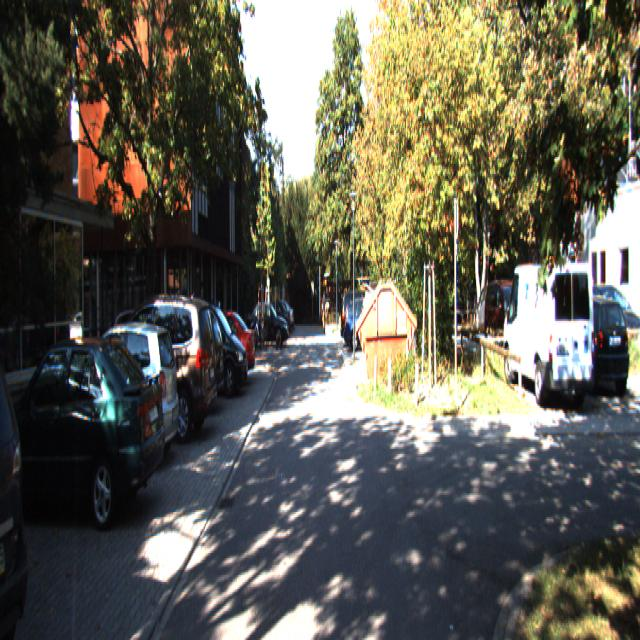Car: (0, 326, 169, 532), (87, 291, 219, 446), (55, 319, 182, 480), (500, 256, 598, 413), (0, 305, 46, 638), (129, 304, 226, 414), (549, 291, 633, 398), (170, 293, 249, 399), (181, 310, 255, 390), (343, 294, 390, 348)
DontCare: (250, 297, 294, 348), (474, 286, 499, 333), (320, 293, 325, 324)
